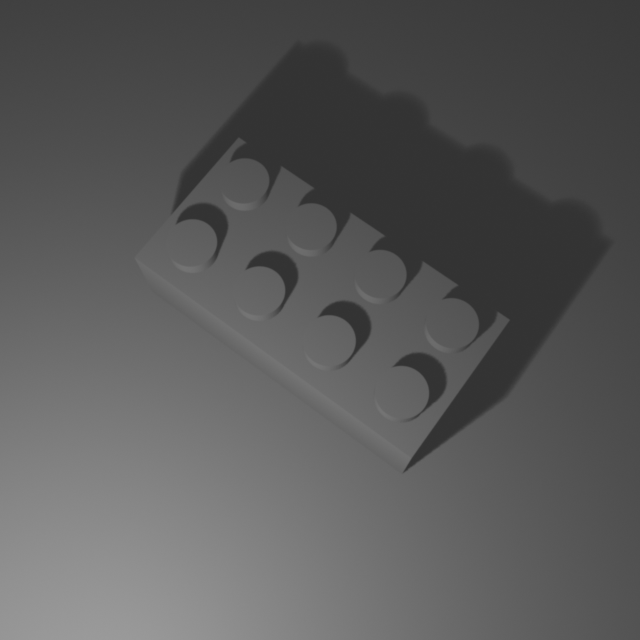lego_2x4: (131, 129, 514, 474)
